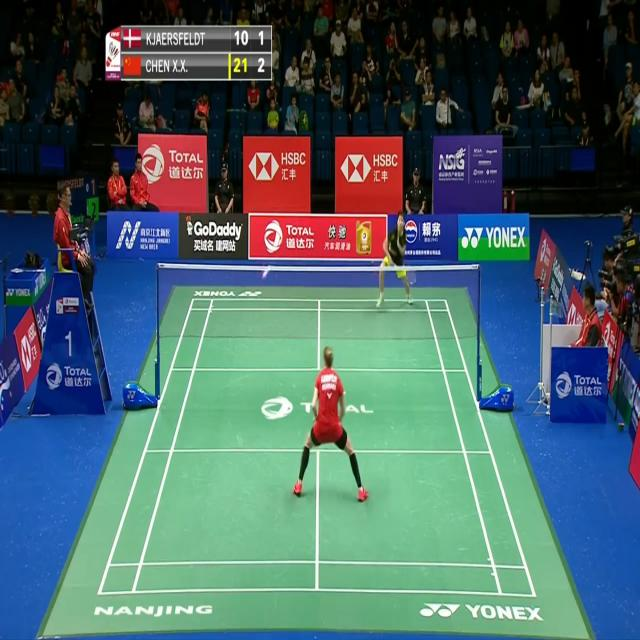Player1: (290, 340, 372, 516)
Player2: (372, 208, 420, 324)
